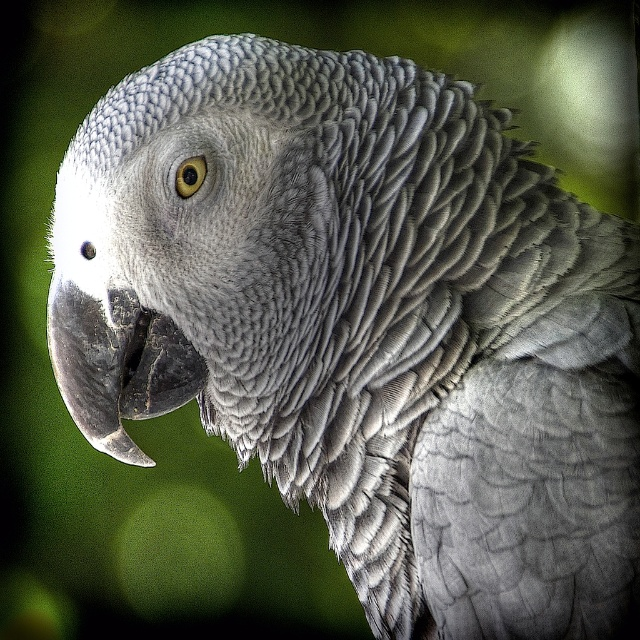Parrot: (45, 33, 639, 640)
